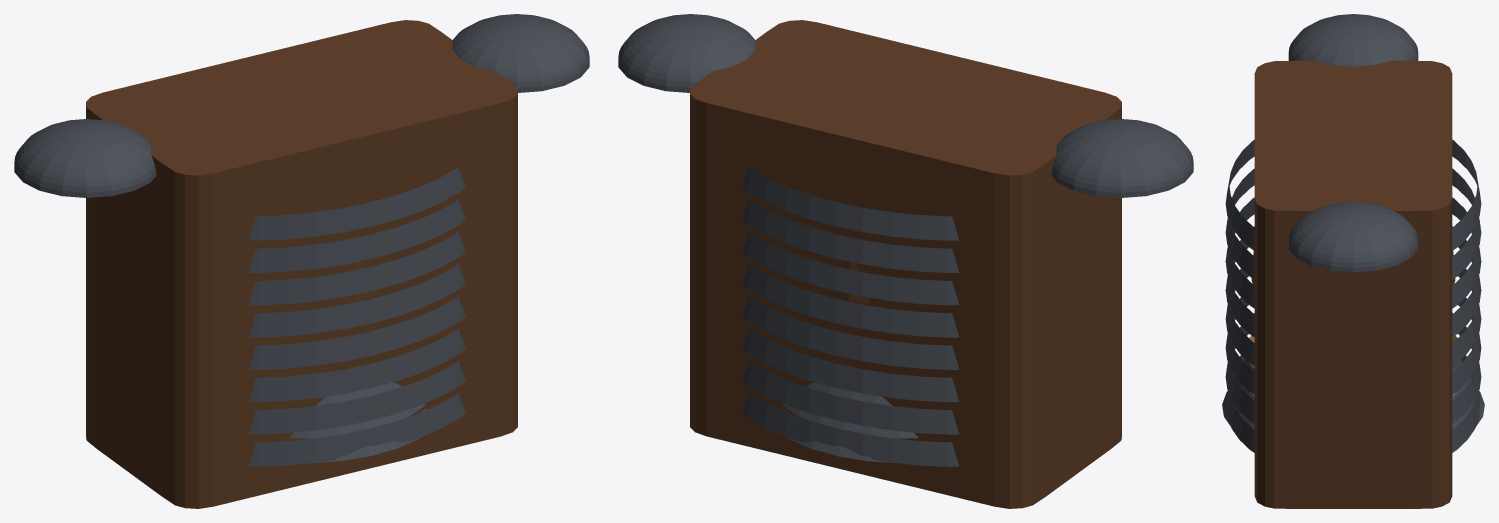
File: mongol_roblox_baked.obj
3 renders of one model, left to right at view 1: azimuth 30°, elevation 25°; view 2: azimuth 150°, elevation 25°; view 3: azimuth 270°, elevation 25°, orthographic. The views are drawn at different scales.
Parts seen in each view (by area): view 1: under_torso, shoulder_L, shoulder_R, lamellar_front_5, lamellar_front_0, lamellar_front_2, lamellar_front_6, lamellar_front_1, lamellar_front_4, lamellar_front_3, lamellar_front_7, duulga_neck_1 (+2 smaller); view 2: under_torso, shoulder_L, shoulder_R, lamellar_back_5, lamellar_back_0, lamellar_back_2, lamellar_back_6, lamellar_back_1, lamellar_back_4, lamellar_back_3, lamellar_back_7, duulga_neck_1 (+2 smaller); view 3: under_torso, shoulder_R, shoulder_L, lamellar_front_0, lamellar_back_0, lamellar_front_1, lamellar_back_1, lamellar_front_2, lamellar_back_2, lamellar_front_3, lamellar_back_3, lamellar_front_6 (+8 smaller).
Part boxes in pixels (<box>): under_torso: <box>86,20,517,508</box>; shoulder_L: <box>14,119,156,197</box>; shoulder_R: <box>452,14,589,92</box>; lamellar_front_5: <box>248,328,465,402</box>; lamellar_front_0: <box>248,167,465,240</box>; lamellar_front_2: <box>248,231,465,305</box>; lamellar_front_6: <box>248,361,465,434</box>; lamellar_front_1: <box>248,199,465,272</box>; lamellar_front_4: <box>248,296,465,369</box>; lamellar_front_3: <box>248,264,465,337</box>; lamellar_front_7: <box>248,393,465,466</box>; duulga_neck_1: <box>289,404,425,438</box>; under_torso: <box>690,20,1121,508</box>; shoulder_L: <box>1051,119,1193,197</box>; shoulder_R: <box>618,14,755,92</box>; lamellar_back_5: <box>742,328,959,402</box>; lamellar_back_0: <box>742,167,959,240</box>; lamellar_back_2: <box>742,231,959,305</box>; lamellar_back_6: <box>742,361,959,434</box>; lamellar_back_1: <box>742,199,959,272</box>; lamellar_back_4: <box>742,296,959,369</box>; lamellar_back_3: <box>742,264,959,337</box>; lamellar_back_7: <box>742,393,959,466</box>; duulga_neck_1: <box>782,404,918,438</box>; under_torso: <box>1254,60,1452,508</box>; shoulder_R: <box>1288,201,1418,272</box>; shoulder_L: <box>1288,14,1418,66</box>; lamellar_front_0: <box>1225,139,1254,250</box>; lamellar_back_0: <box>1452,139,1481,250</box>; lamellar_front_1: <box>1225,168,1254,279</box>; lamellar_back_1: <box>1452,168,1481,279</box>; lamellar_front_2: <box>1225,197,1254,308</box>; lamellar_back_2: <box>1452,197,1481,308</box>; lamellar_front_3: <box>1225,226,1254,337</box>; lamellar_back_3: <box>1452,226,1481,337</box>; lamellar_front_6: <box>1225,313,1254,423</box>.
Bounding box in the file's own units: 3.5 × 2.24 × 1.6.
